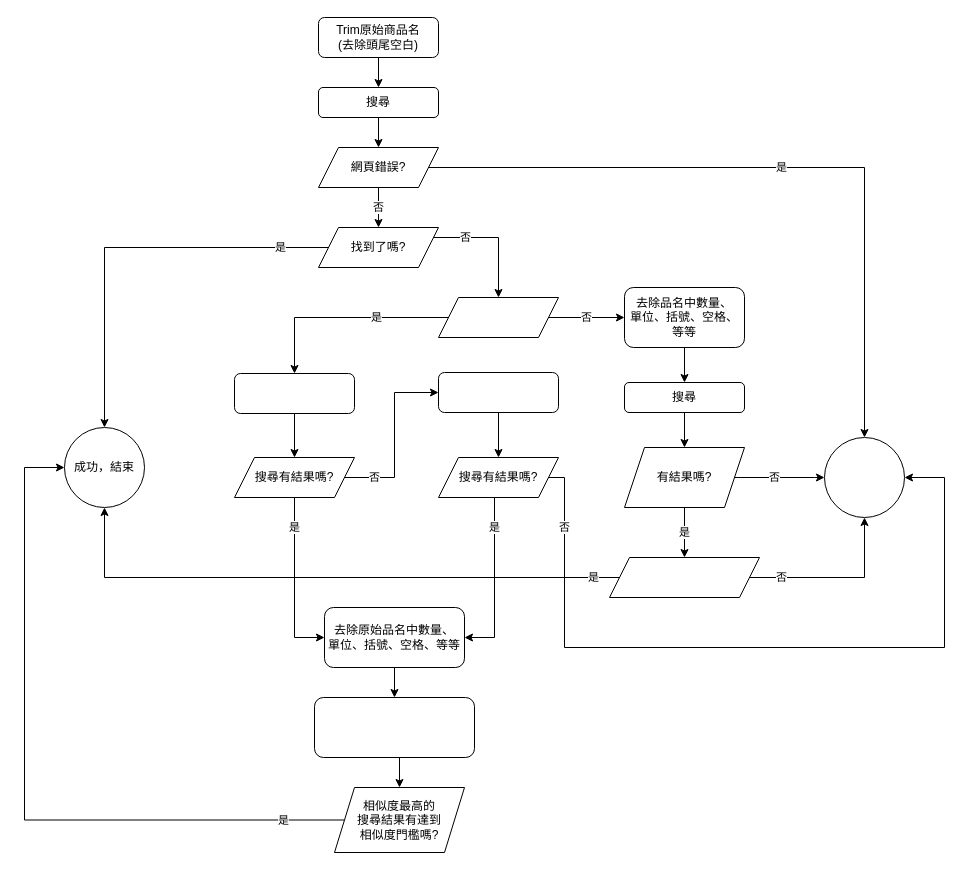
This 970x870 diagram has some shape labels left out. The centre of each missing label's shape, as x and y in pixels:
失敗，結束: point (864, 477)
將"原始商品"與"搜尋結果" 逐一進行case-insensitive 相似度比較: point (394, 727)
廠商為已知嗎?: point (498, 317)
搜尋廠牌中文名稱: point (294, 393)
搜尋廠牌英文名稱: point (498, 392)
相似度有達到門檻嗎?: point (684, 577)
